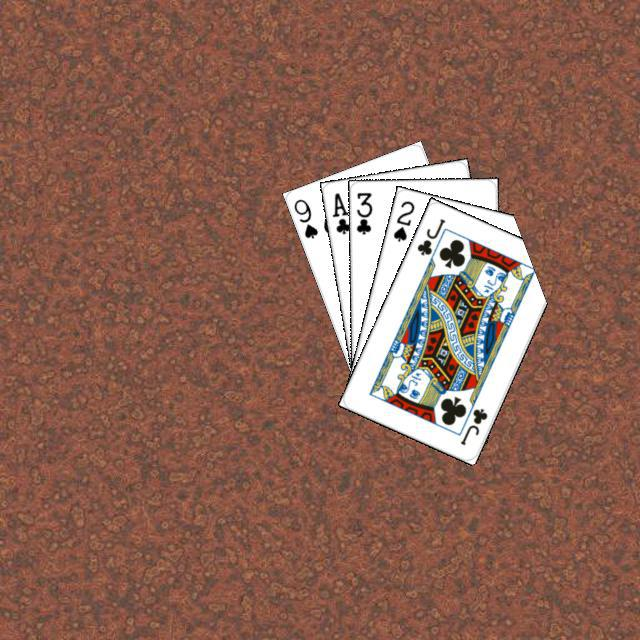2s: (388, 196, 416, 243)
3c: (351, 188, 374, 236)
9s: (289, 194, 320, 240)
Ac: (327, 188, 352, 236)
Jc: (412, 214, 447, 257), (455, 403, 489, 447)
